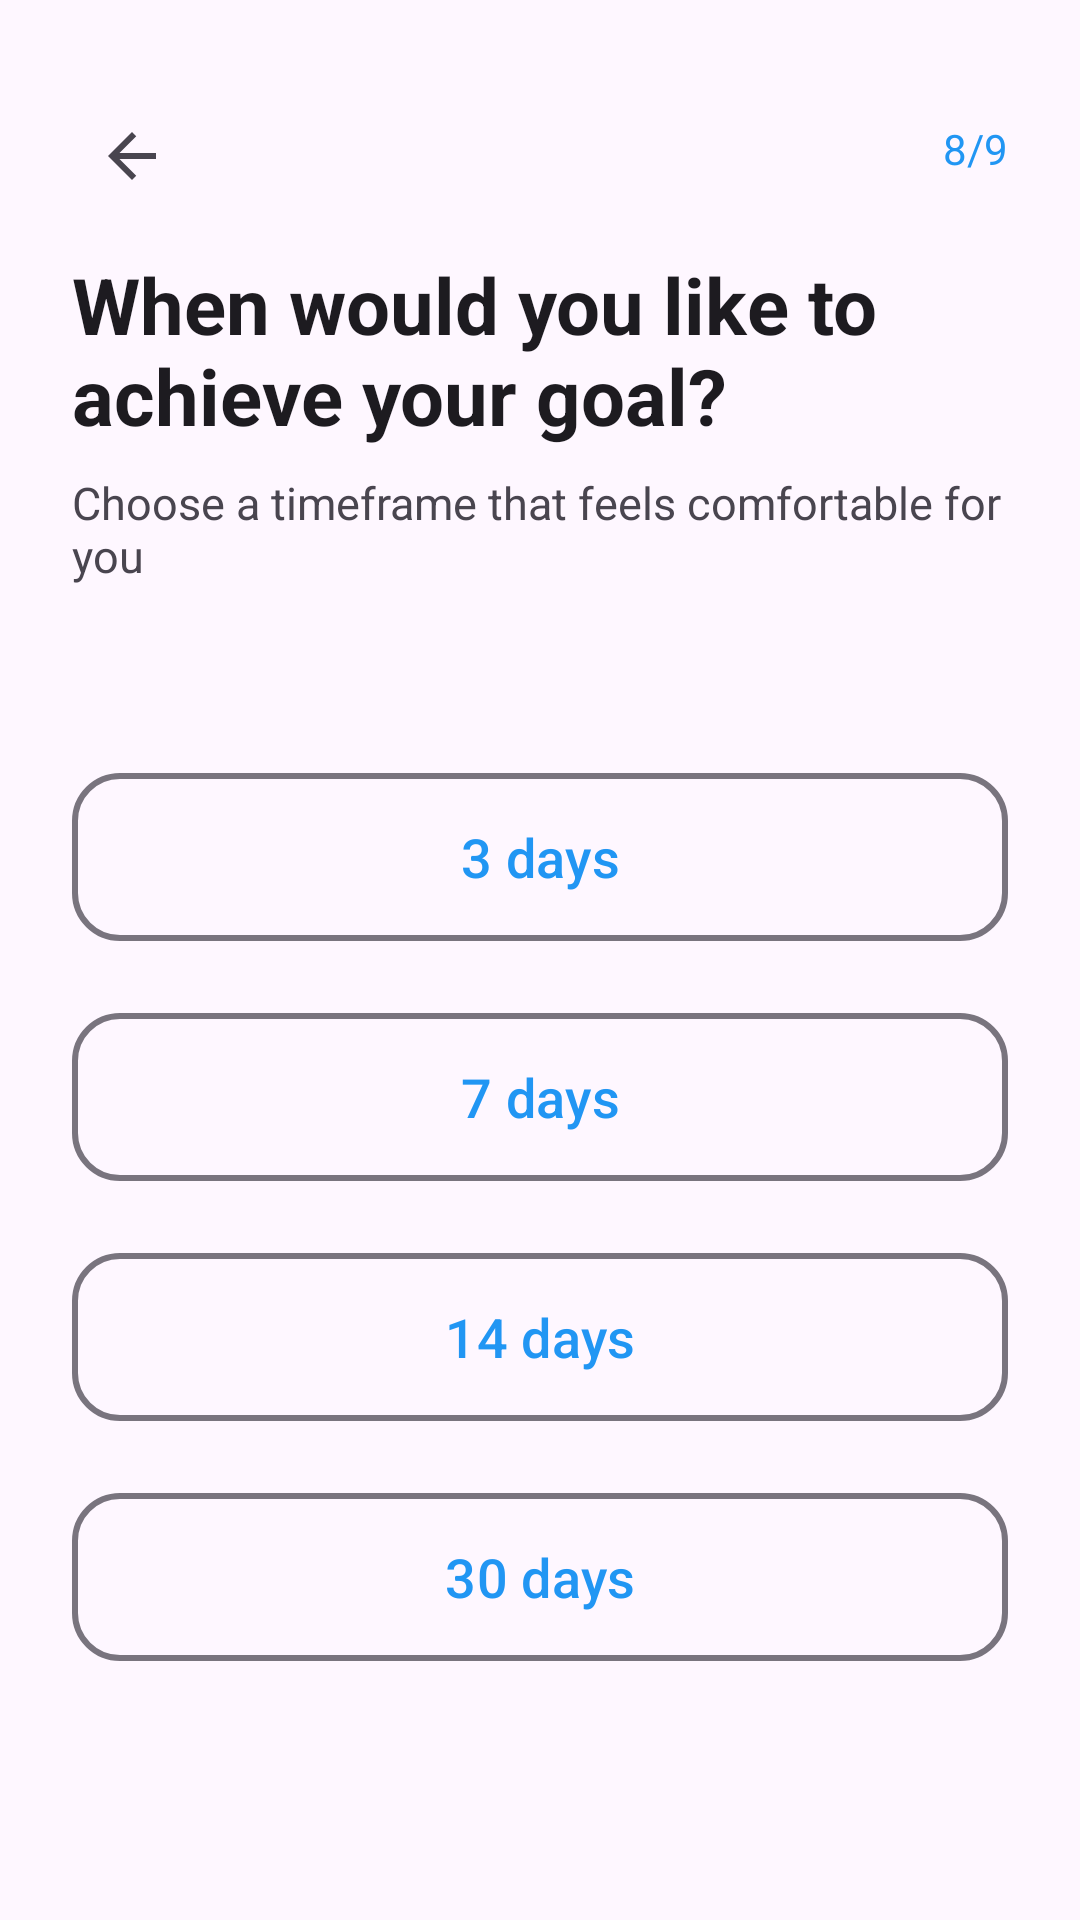

Named icons in this screenshot (1080px x 1920px) and their centers, [x,y]:
Go back: [132,156]
